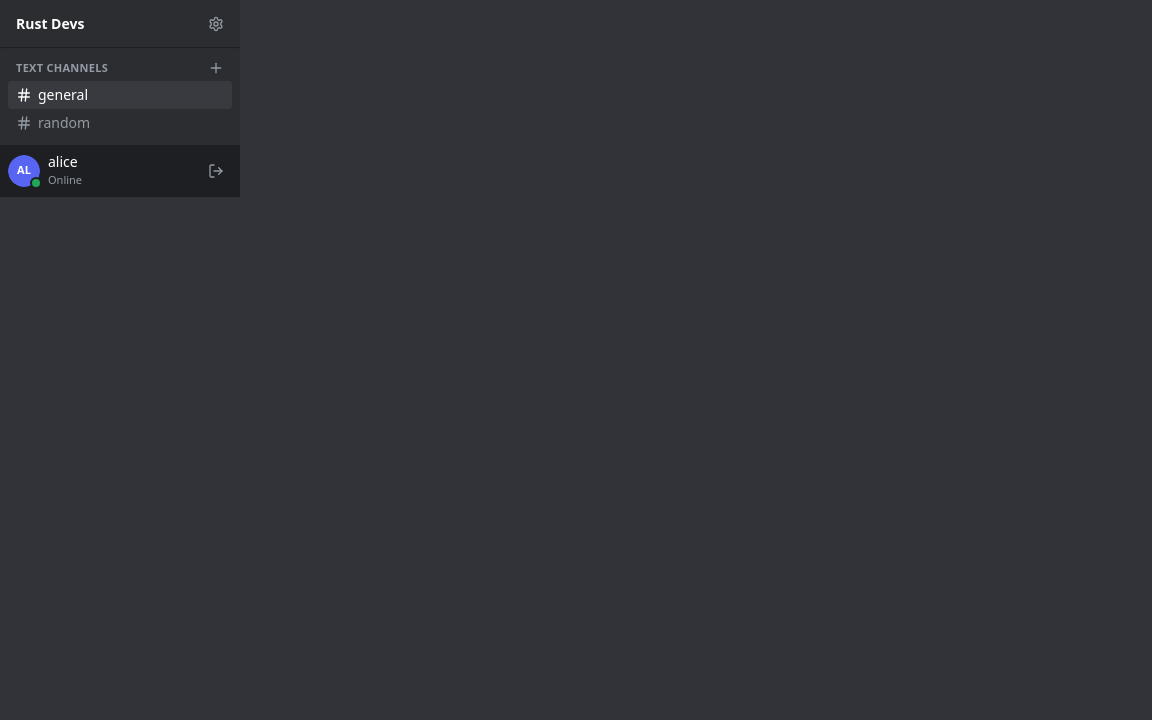
Test: ChannelSidebar › opens create channel dialog on button click
Click the button named "create channel" at point(216, 68), box [208, 60, 224, 76]
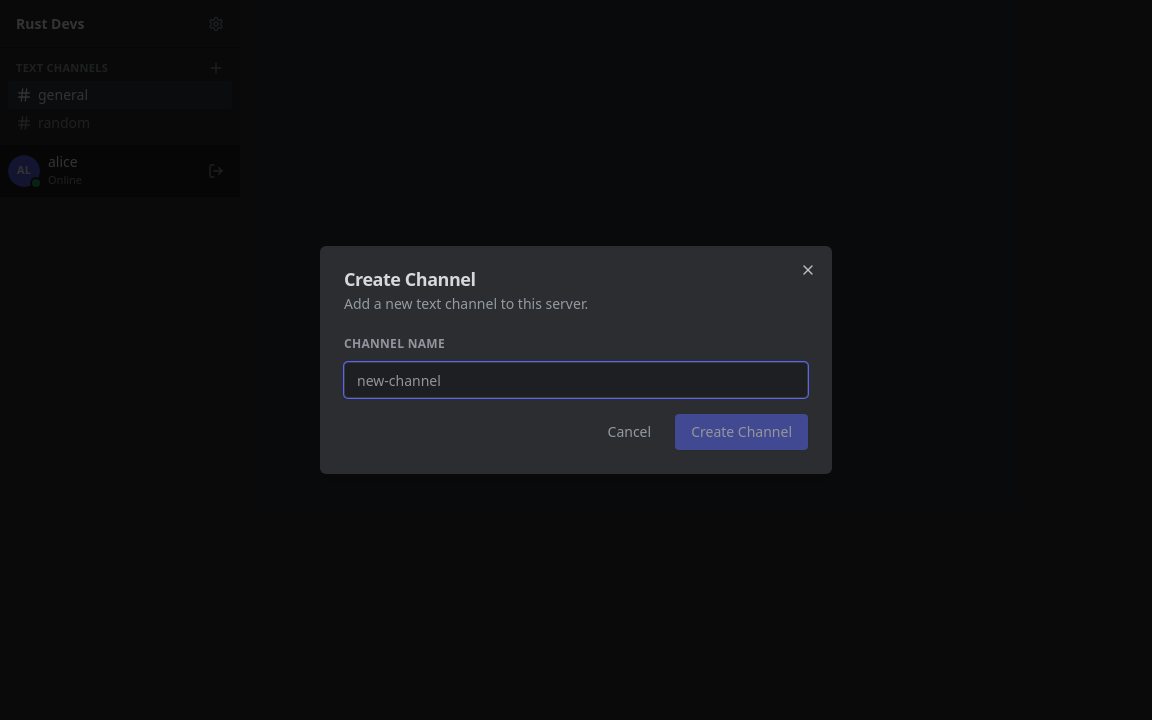
Expected: the dialog is shown, [320, 246, 832, 474]
Expected: the field labelled "Channel Name" is shown, [344, 362, 808, 398]
